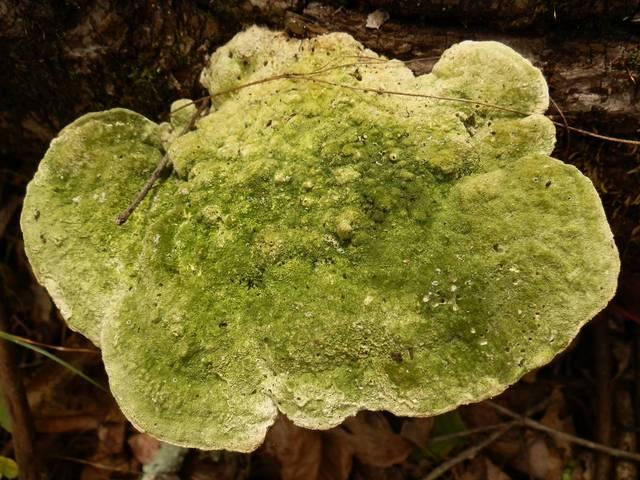poisonous_mushroom: (18, 23, 622, 455)
